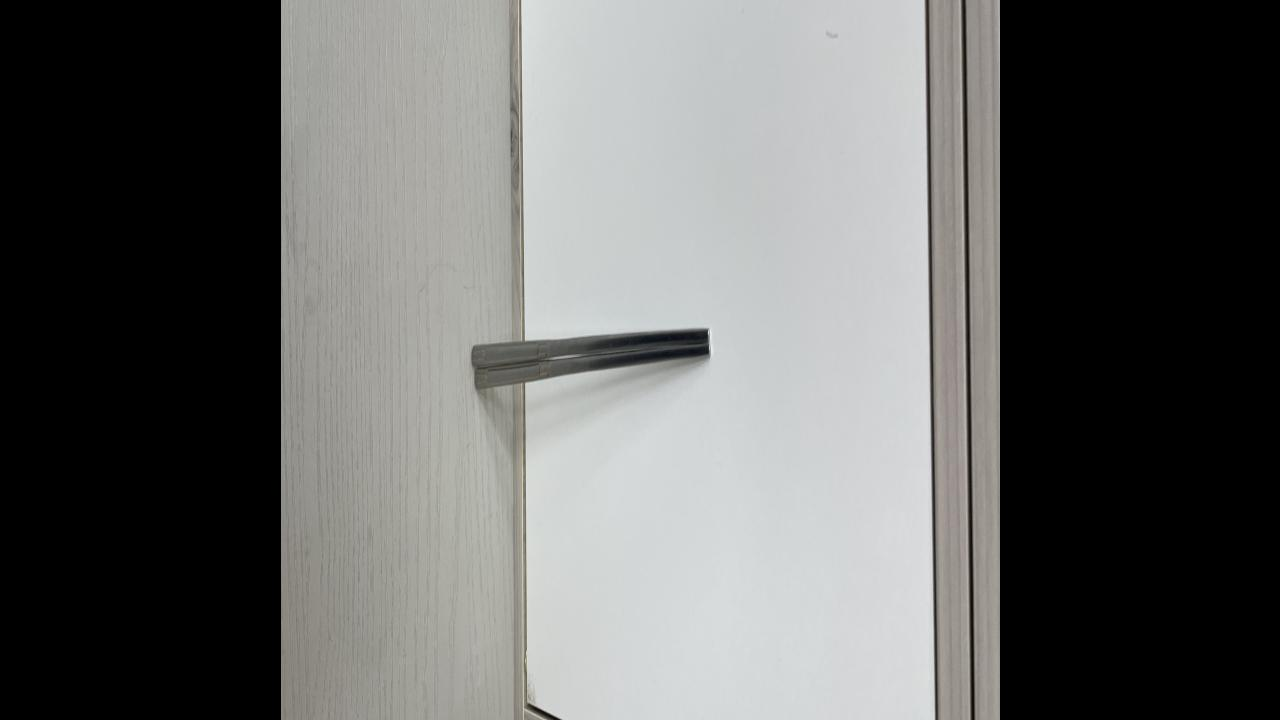chopstick: (472, 325, 710, 395)
